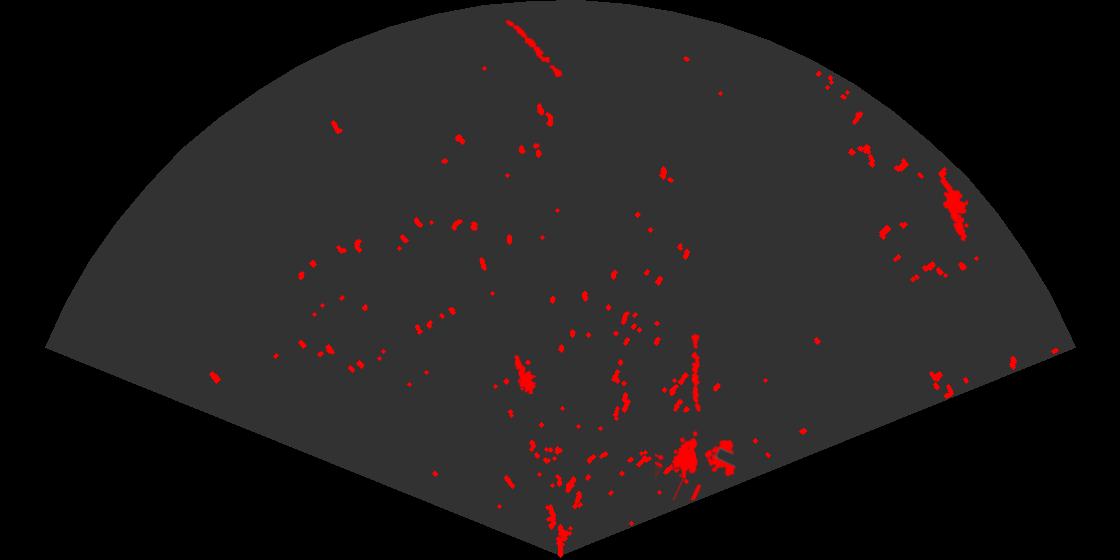cage: (655, 429, 737, 500)
chain: (504, 18, 569, 82), (689, 332, 702, 412)
frogman: (938, 180, 970, 243), (513, 354, 538, 394)
